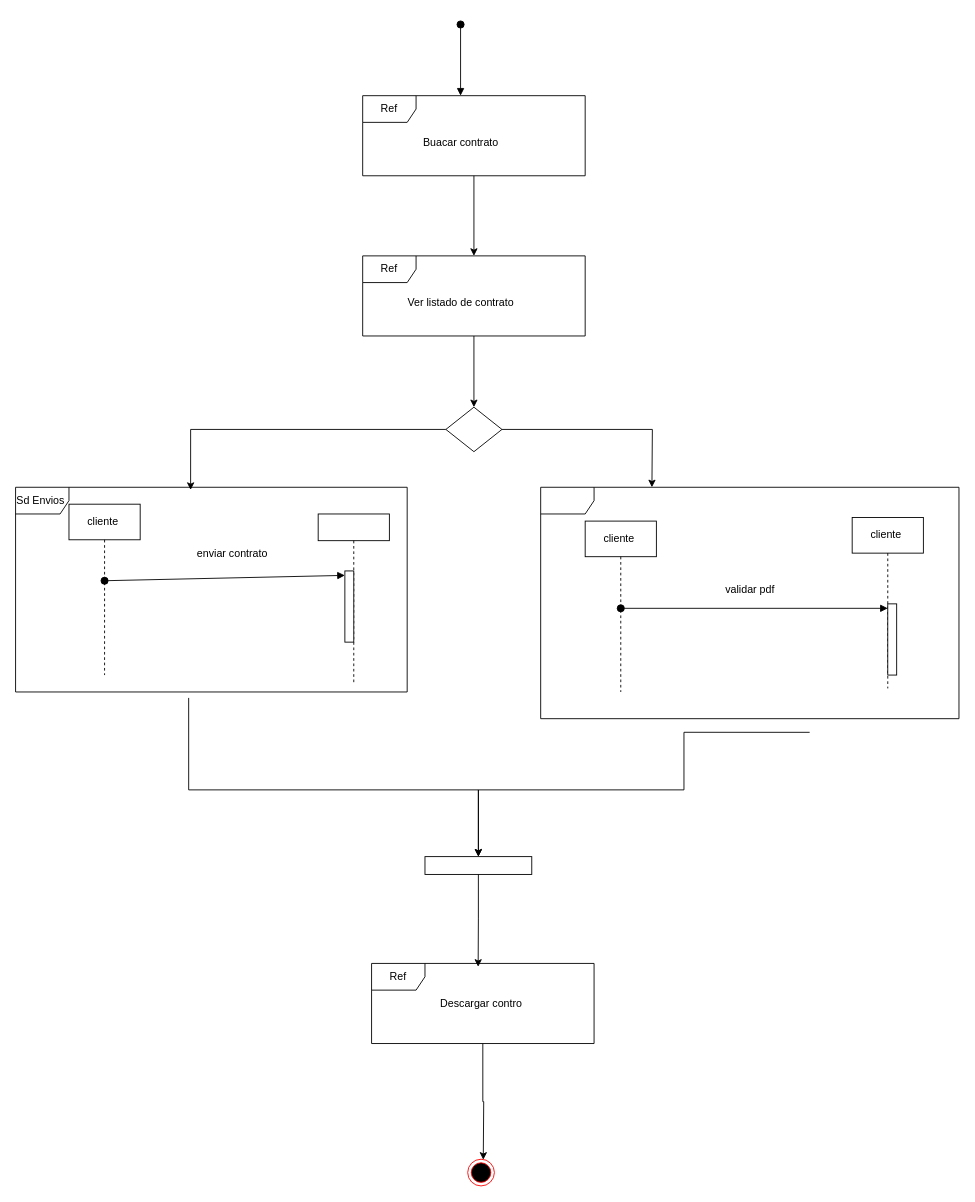
The diagram is 975 pixels wide and 1202 high, and some of its shapes have lost their labels. Each missing label, with the box of its shape:
Sd Documento pdf: (540, 486, 959, 719)
sistema: (317, 513, 389, 685)
